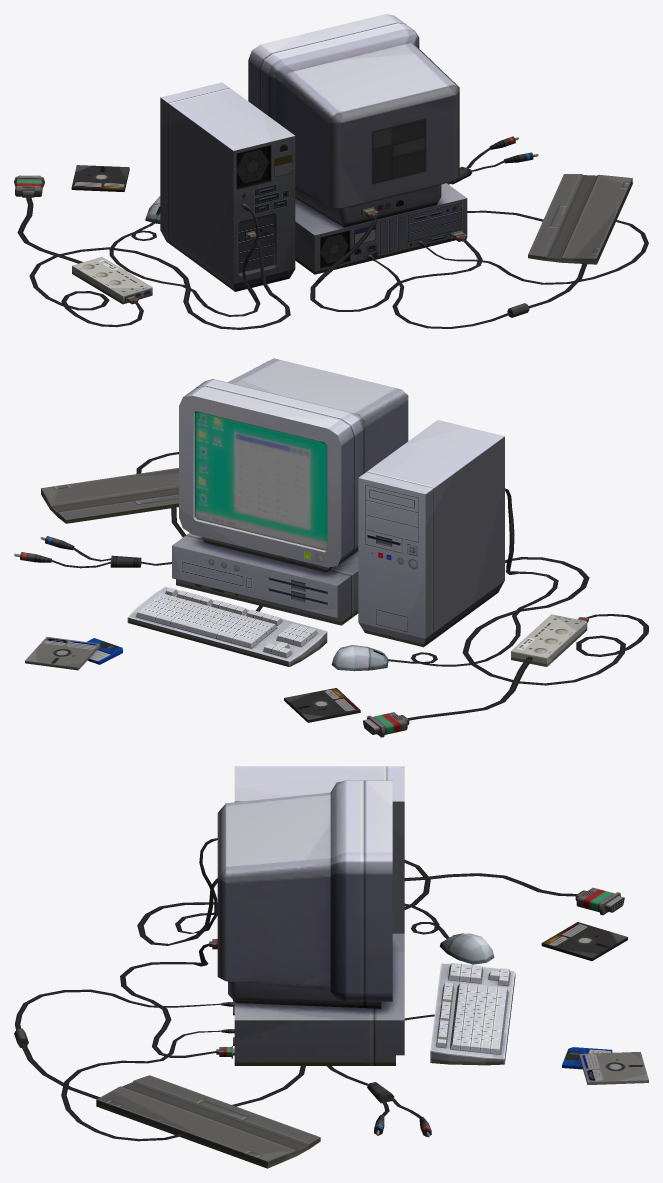
3 renders of one model, top to bottom at view 1: azimuth 30°, elevation 25°; view 2: azimuth 150°, elevation 25°; view 3: azimuth 270°, elevation 25°, orthographic. The views are drawn at different scales.
Visible parts, largest first — view 1: no_alfa, fan2, fan1; view 2: no_alfa, screen_on; view 3: no_alfa.
Boxes of the visible parts, x1,y1,x2,y2 form: no_alfa: [14, 14, 648, 329]; fan2: [236, 149, 268, 183]; fan1: [320, 234, 348, 263]; no_alfa: [14, 358, 648, 737]; screen_on: [195, 411, 327, 550]; no_alfa: [14, 766, 648, 1168].
Bounding box in the file's own units: 4.57 × 1.39 × 3.87.
Materials: 3 (3 with a texture image).
